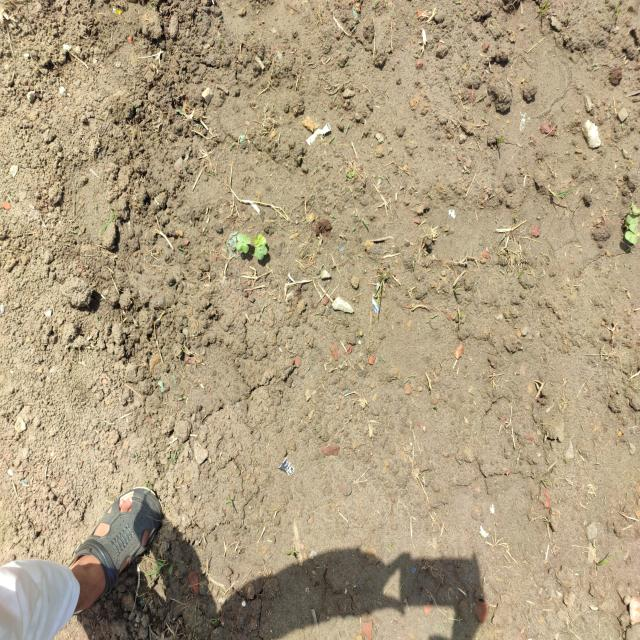seedling_s1: (626, 214, 640, 227), (236, 233, 251, 245), (625, 231, 638, 244), (236, 242, 249, 254), (629, 224, 640, 237), (257, 244, 268, 255), (254, 248, 264, 260), (258, 234, 267, 245), (254, 236, 261, 248)
